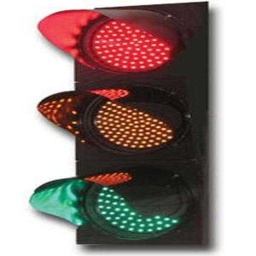traffic light: (28, 0, 210, 244)
